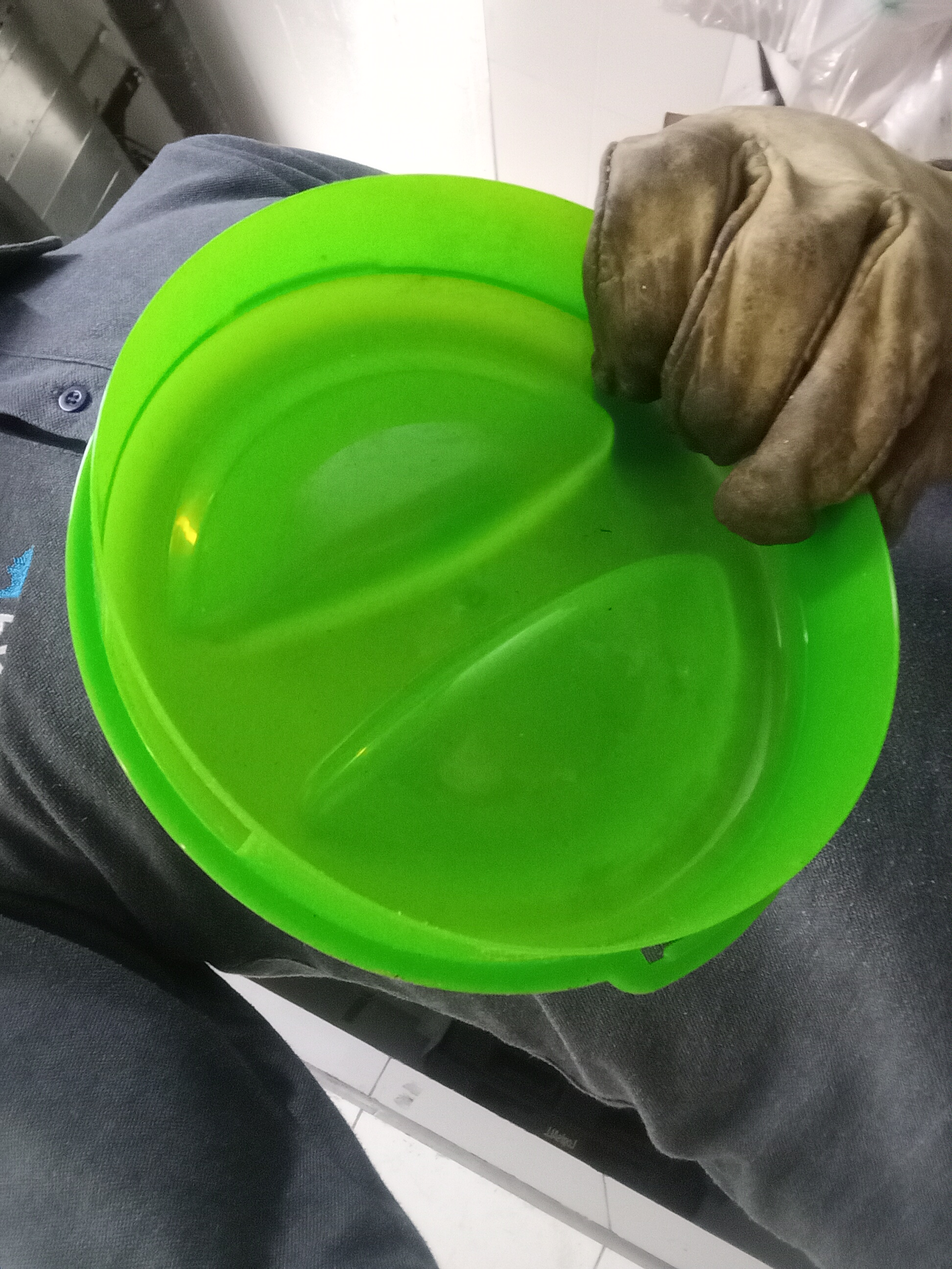Plastico: (66, 172, 896, 996)
